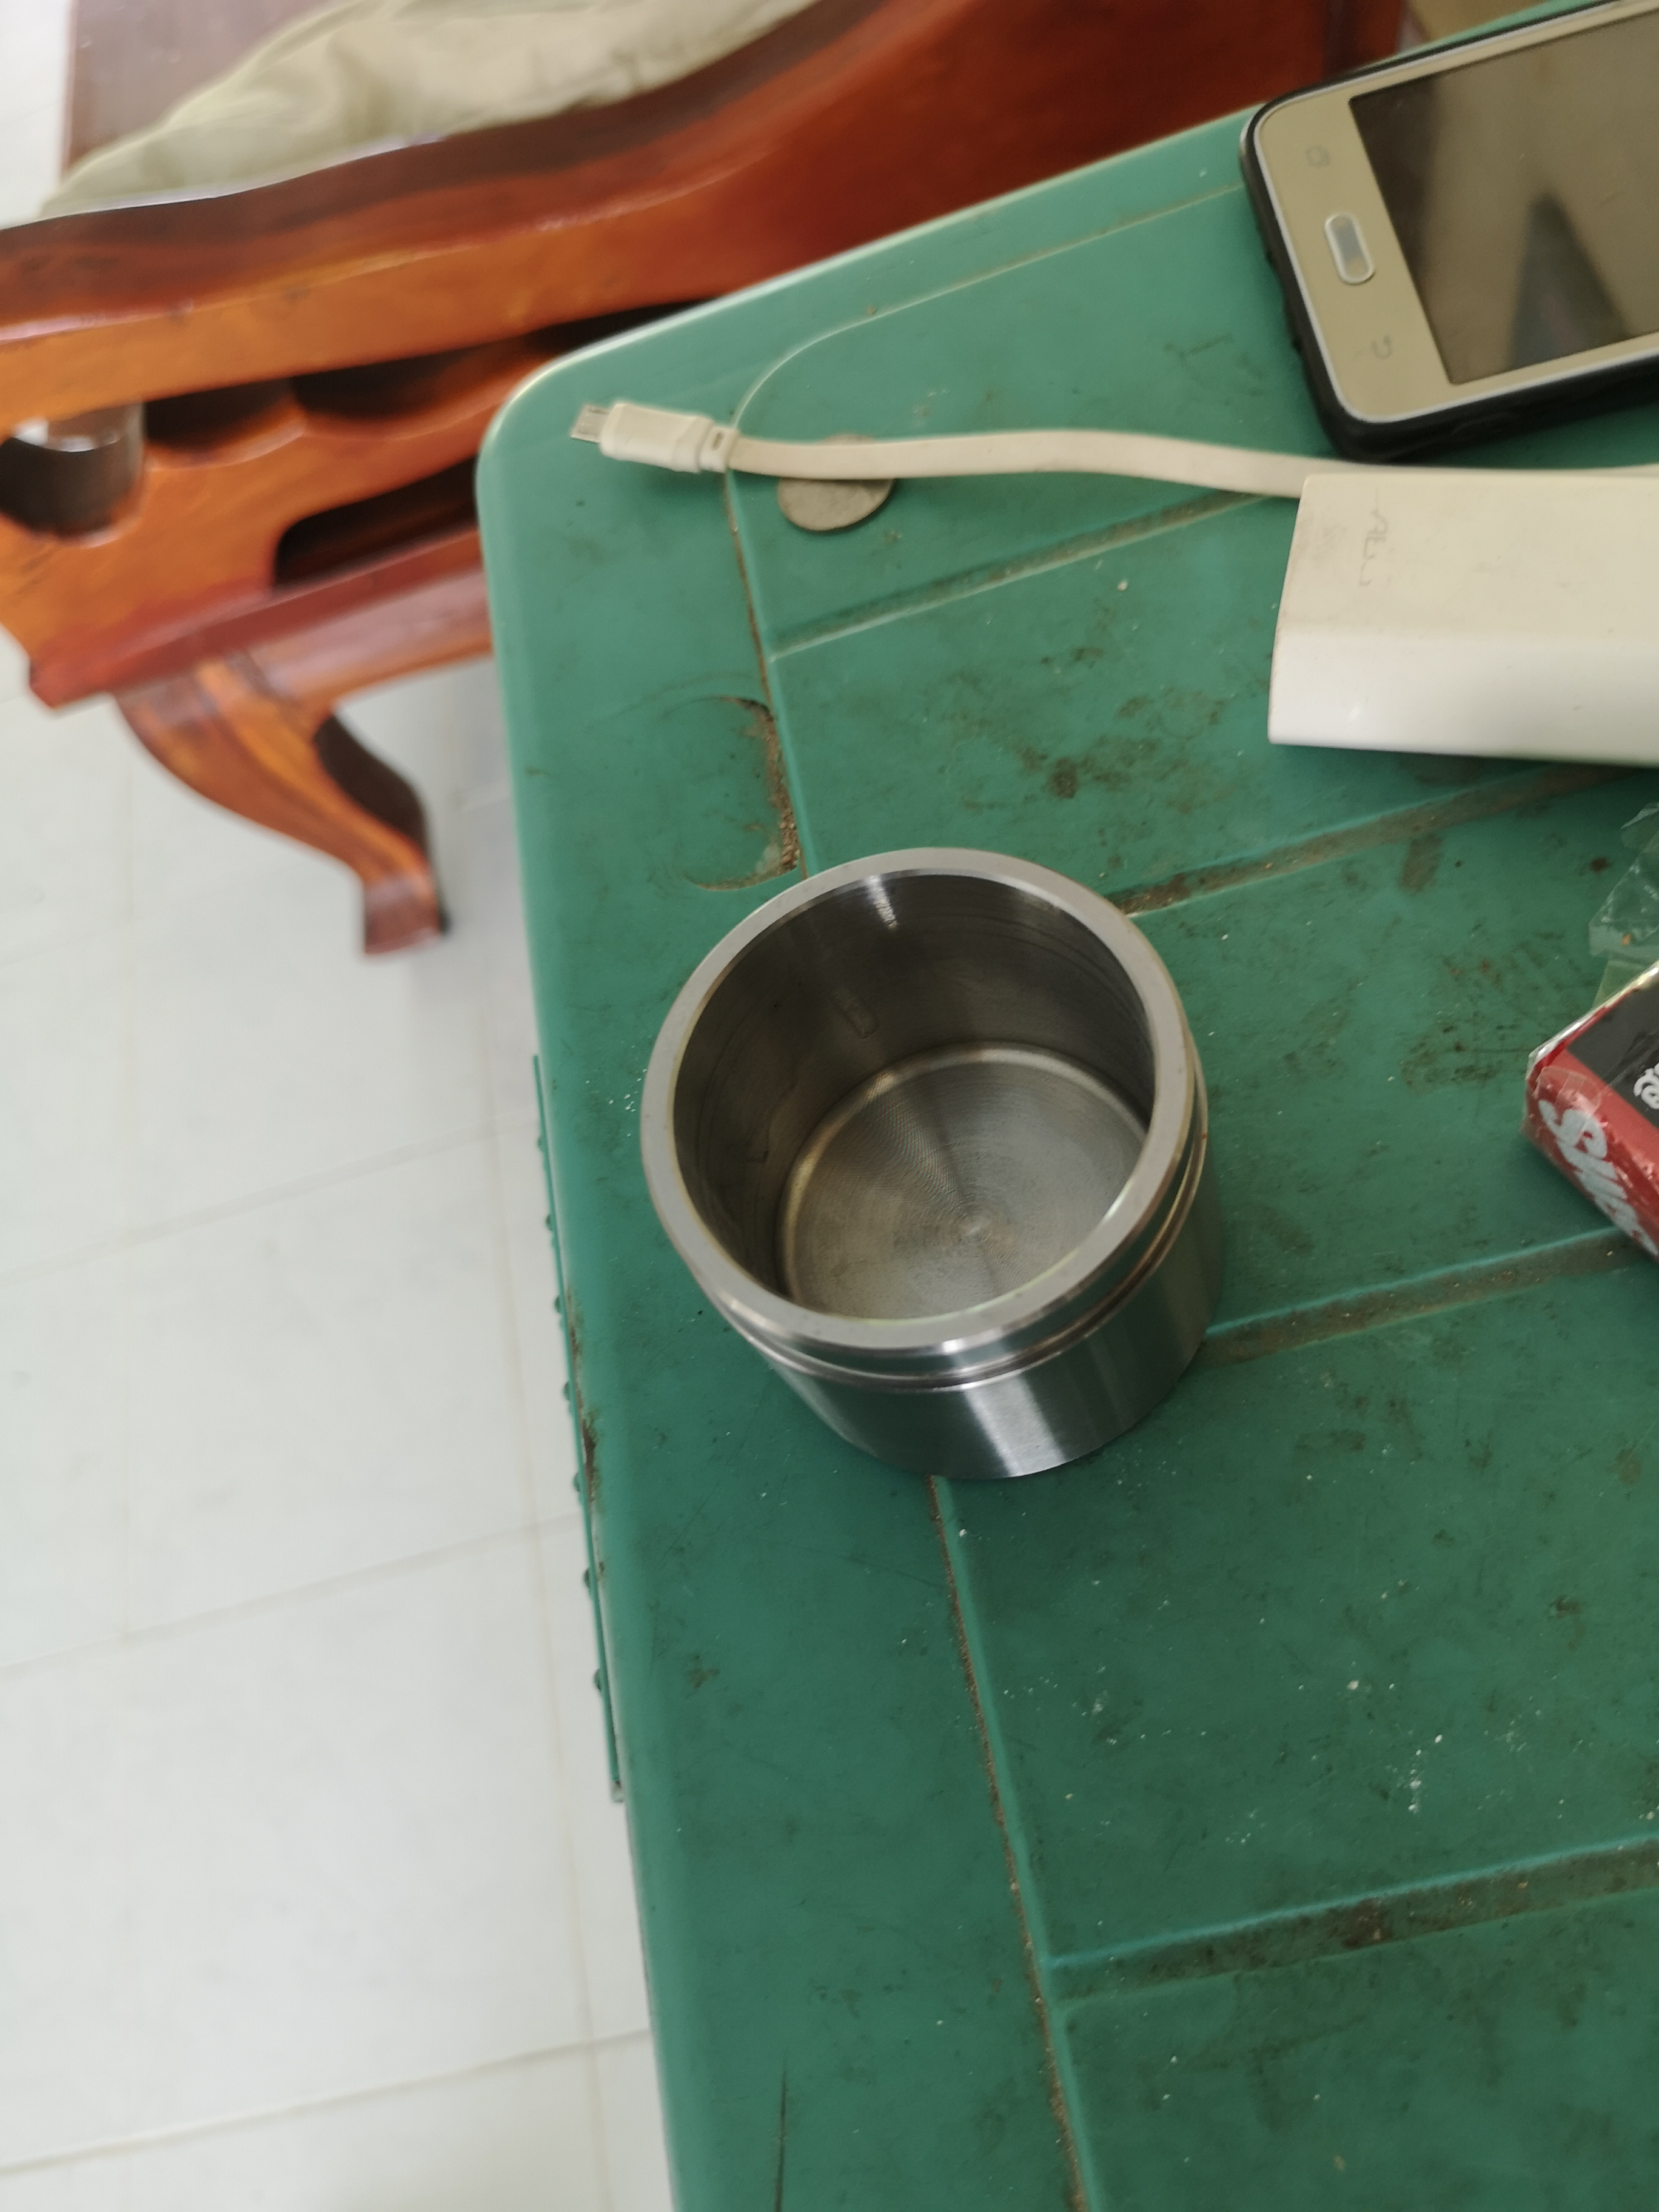ลูกสูบดิสเบรค: (634, 810, 1305, 1482)
